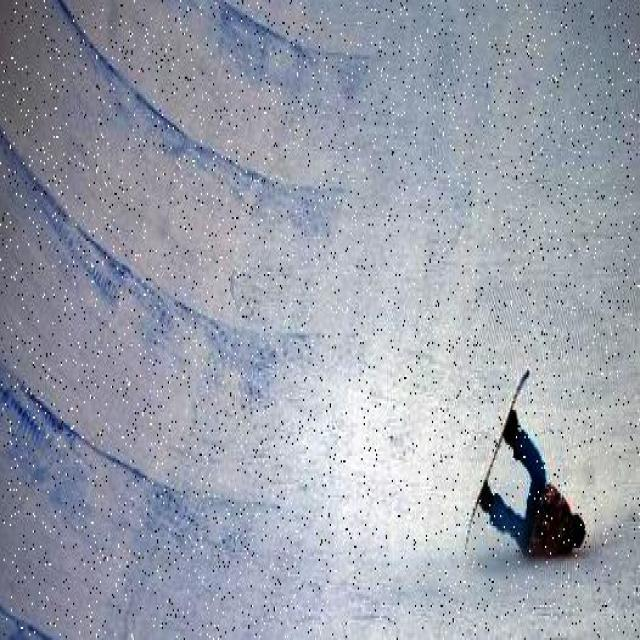fall: (496, 432, 588, 556)
